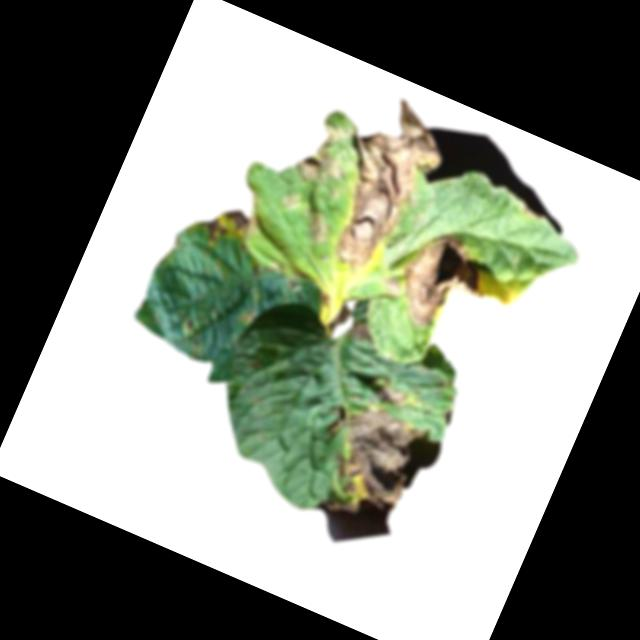Early_blight: (303, 85, 461, 288), (308, 397, 429, 536), (387, 222, 499, 344), (293, 117, 362, 196), (194, 198, 253, 253), (301, 209, 335, 247), (326, 302, 354, 337), (377, 383, 412, 411), (346, 316, 377, 347), (380, 275, 405, 298), (280, 194, 300, 213)
